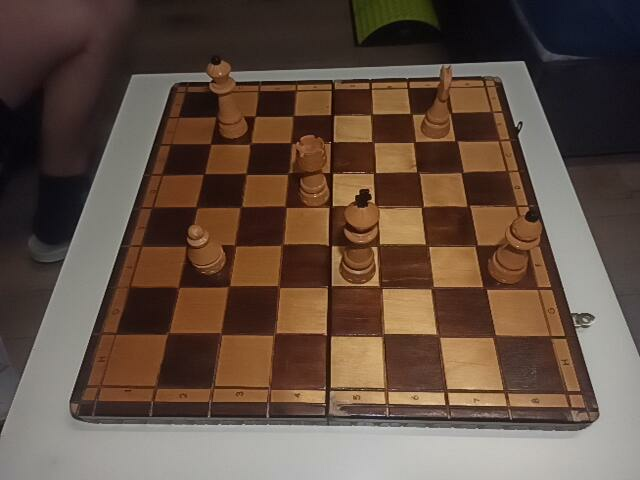W-Bishop: (488, 212, 541, 284)
W-King: (340, 189, 380, 283)
W-Knight: (422, 65, 454, 138)
W-Pawn: (186, 225, 225, 276)
W-Queen: (205, 55, 248, 139)
W-Rook: (295, 135, 329, 205)
